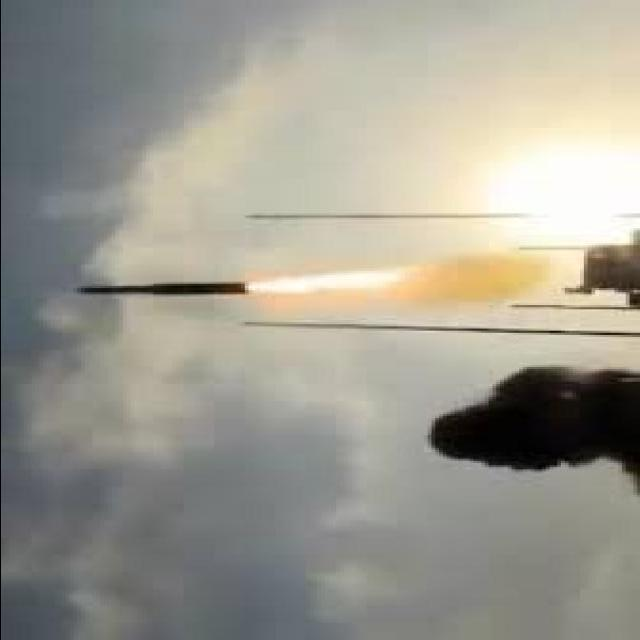Missile: (67, 280, 250, 301)
